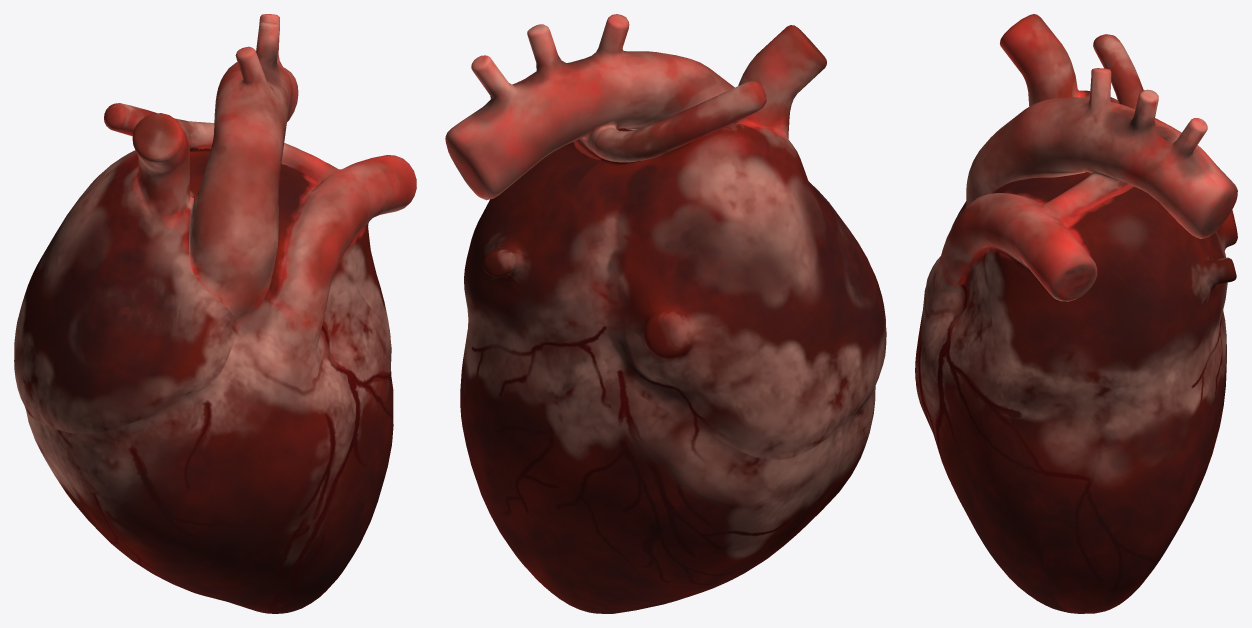
File: heart.glb
3 views of the same model, side by side, from view 1: azimuth 30°, elevation 25°; view 2: azimuth 150°, elevation 25°; view 3: azimuth 270°, elevation 25° (orthographic). The views are drawn at different scales.
Parts seen in each view (by area): view 1: hart:ZBrush_defualt_group_Heart Tex_0; view 2: hart:ZBrush_defualt_group_Heart Tex_0; view 3: hart:ZBrush_defualt_group_Heart Tex_0.
Part boxes in pixels (x1,y1,x2,y2): hart:ZBrush_defualt_group_Heart Tex_0: (14,14,416,613); hart:ZBrush_defualt_group_Heart Tex_0: (445,14,886,613); hart:ZBrush_defualt_group_Heart Tex_0: (915,14,1237,613).
Size of the model in its own units: 1.08 by 1.6 by 0.8801.
Materials: 1 (1 with a texture image).
